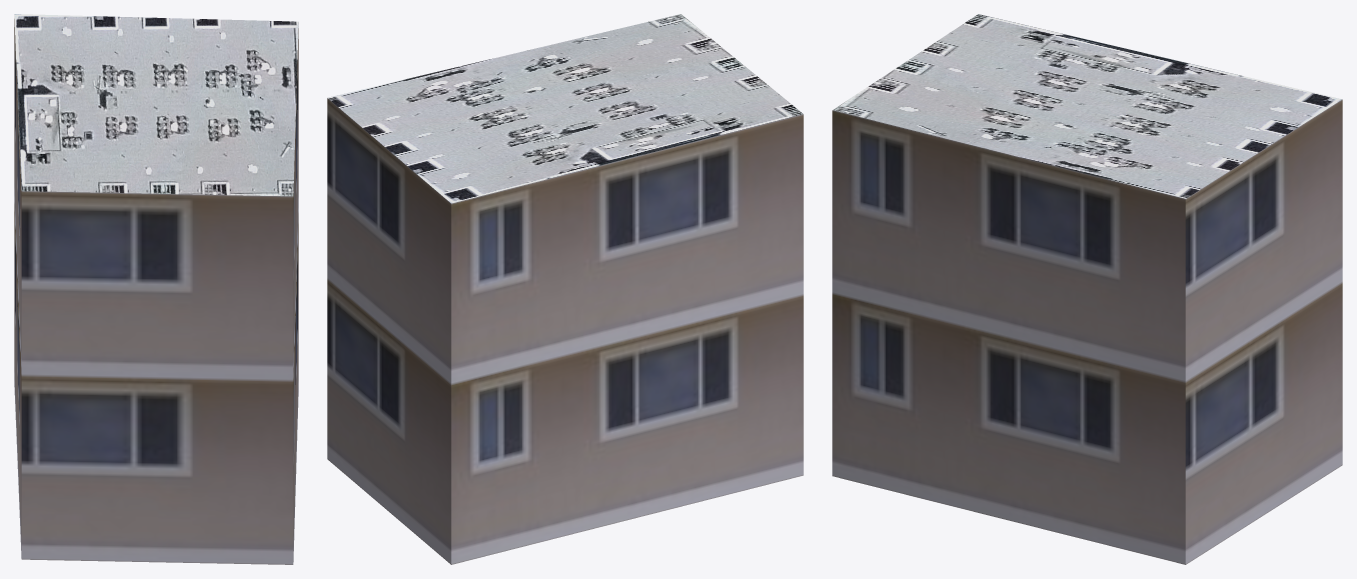
The model's file is ResTex__638.fbx.
The picture shows the model from 3 angles, left to right: view 1: azimuth 30°, elevation 25°; view 2: azimuth 150°, elevation 25°; view 3: azimuth 270°, elevation 25°; orthographic projection.
Parts seen in each view (by area): view 1: CityEngineMaterial_21_m, CityEngineMaterial_4_m; view 2: CityEngineMaterial_21_m, CityEngineMaterial_4_m; view 3: CityEngineMaterial_21_m, CityEngineMaterial_4_m.
Boxes of the visible parts, left/top/right/bottom form: CityEngineMaterial_21_m: left=14, top=19, right=298, bottom=564; CityEngineMaterial_4_m: left=14, top=14, right=298, bottom=196; CityEngineMaterial_21_m: left=327, top=98, right=803, bottom=564; CityEngineMaterial_4_m: left=327, top=14, right=803, bottom=203; CityEngineMaterial_21_m: left=832, top=99, right=1342, bottom=564; CityEngineMaterial_4_m: left=833, top=14, right=1341, bottom=198.
Bounding box in the file's own units: 6.5 × 6 × 7.58.
2 materials, 2 textured.
